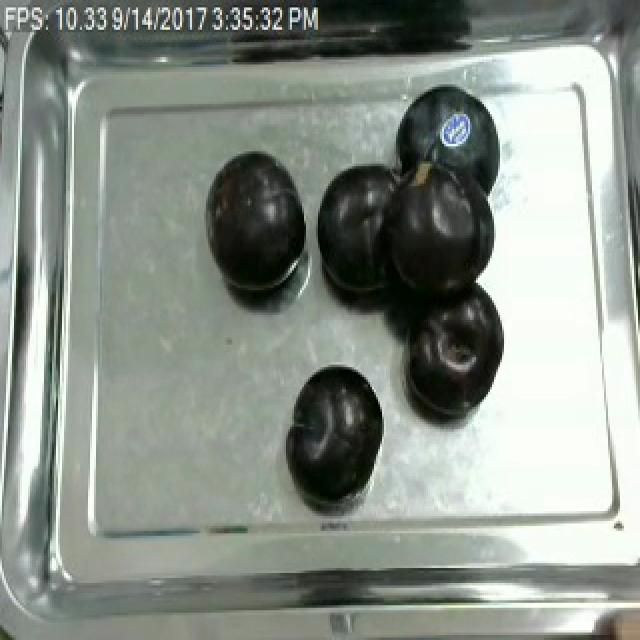Fruit: (202, 146, 314, 303), (376, 154, 494, 302), (400, 276, 508, 424), (308, 156, 408, 308), (282, 360, 386, 506), (390, 80, 508, 204)
